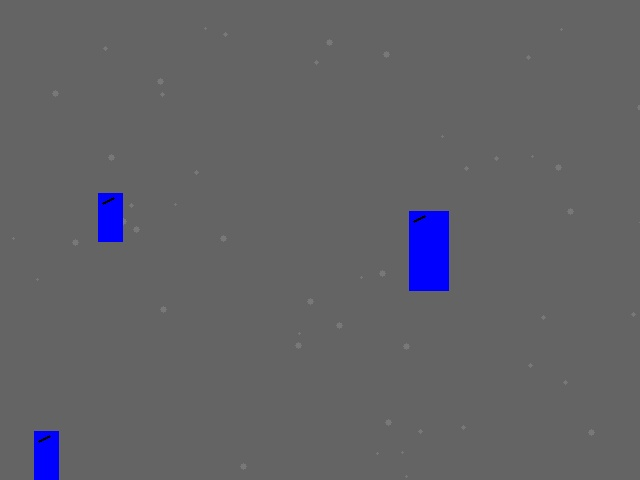motorcycle: (409, 211, 448, 290), (34, 431, 58, 479), (98, 193, 122, 241)
